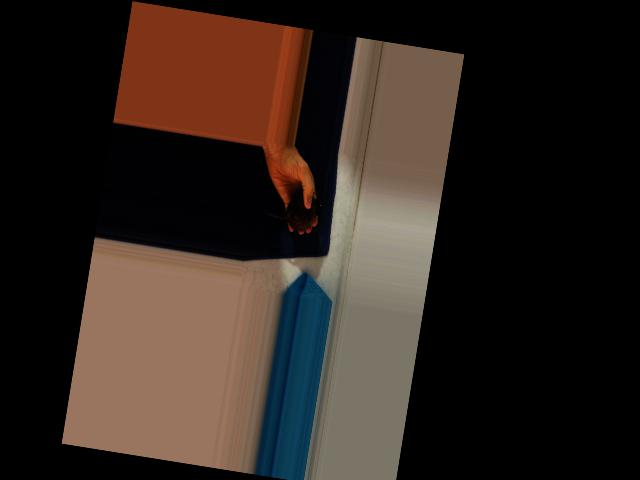beet: (260, 184, 323, 234)
